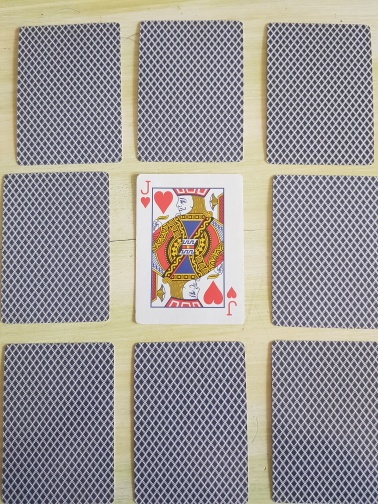jack: (134, 173, 246, 326)
